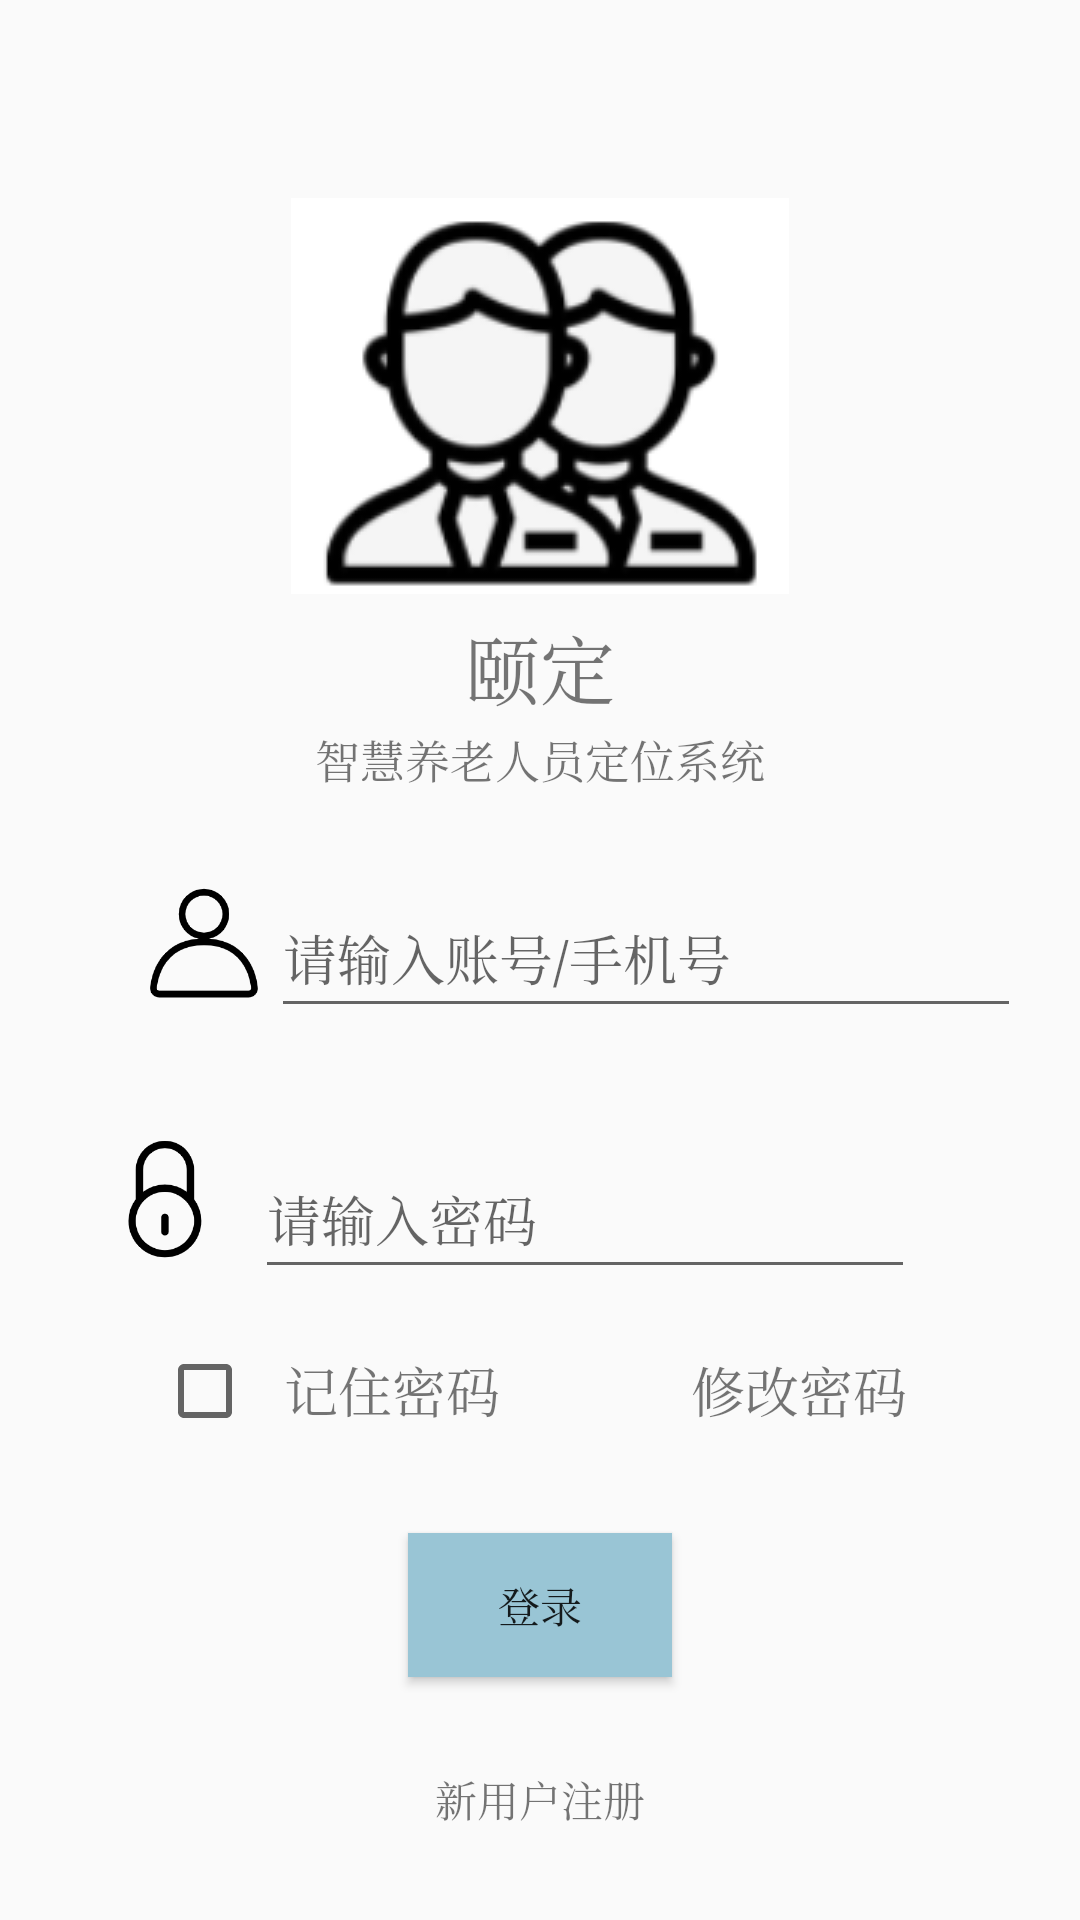

Locate icon controls on the screen. Image size 1080×1920, boxes as [x1=x1, y1=y1, x2=x2, y2=y2].
wode: [x1=150, y1=888, x2=258, y2=998]
